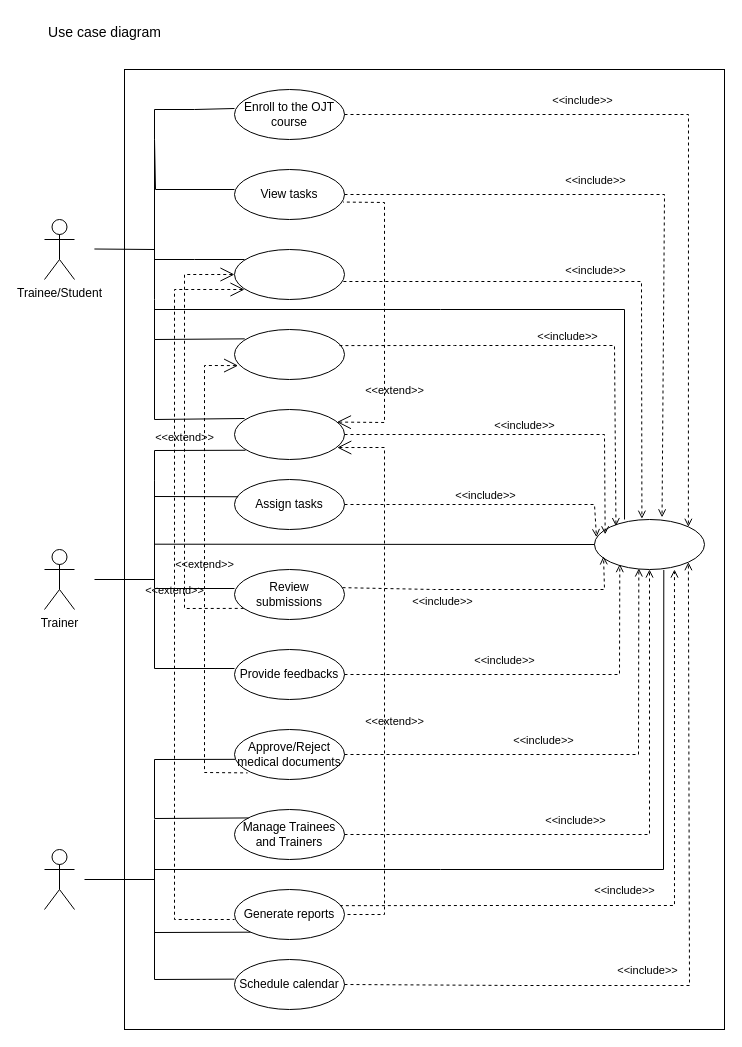
The diagram is 742 pixels wide and 1047 high, and some of its shapes have lost their labels. The centre of each missing label's shape, as x and y in pixels:
"Administator" belongs at (59,879).
"Login to LMS system" belongs at (649,544).
"Submit training logs" belongs at (289,274).
"Track progress" belongs at (289,434).
"Upload medical documents for leave" belongs at (289,354).
